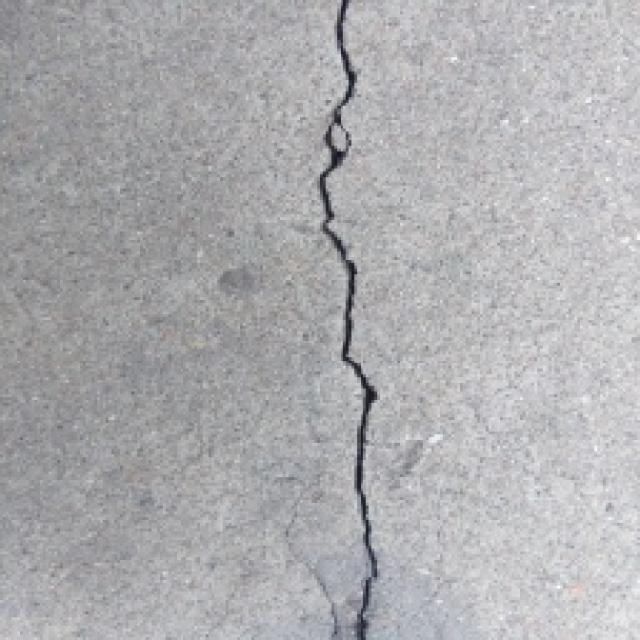crack: (278, 0, 410, 640)
